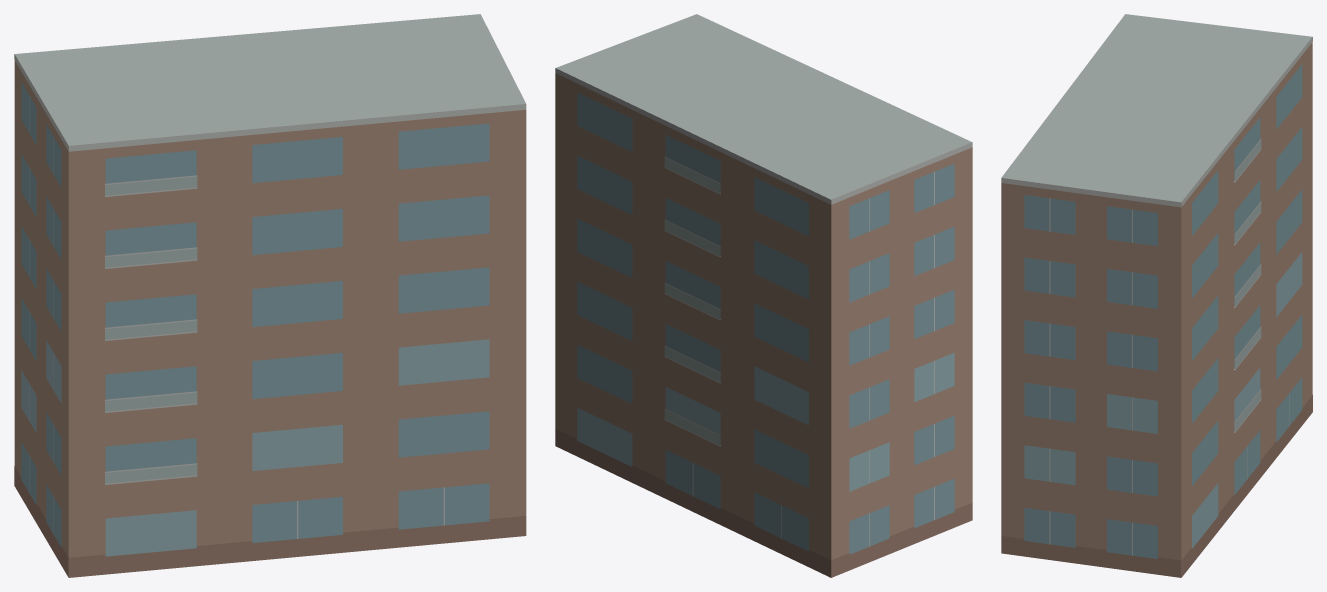
The model's file is survey-upis-32872637.glb.
3 renders of one model, left to right at view 1: azimuth 30°, elevation 25°; view 2: azimuth 150°, elevation 25°; view 3: azimuth 270°, elevation 25°, orthographic. The views are drawn at different scales.
Parts seen in each view (by area): view 1: survey-upis-32872637.tmp; view 2: survey-upis-32872637.tmp; view 3: survey-upis-32872637.tmp.
Boxes of the visible parts, x1,y1,x2,y2 form: survey-upis-32872637.tmp: (14, 14, 526, 577); survey-upis-32872637.tmp: (555, 14, 972, 577); survey-upis-32872637.tmp: (1001, 14, 1312, 577).
Size of the model in its own units: 19.7 by 18.3 by 13.77.
